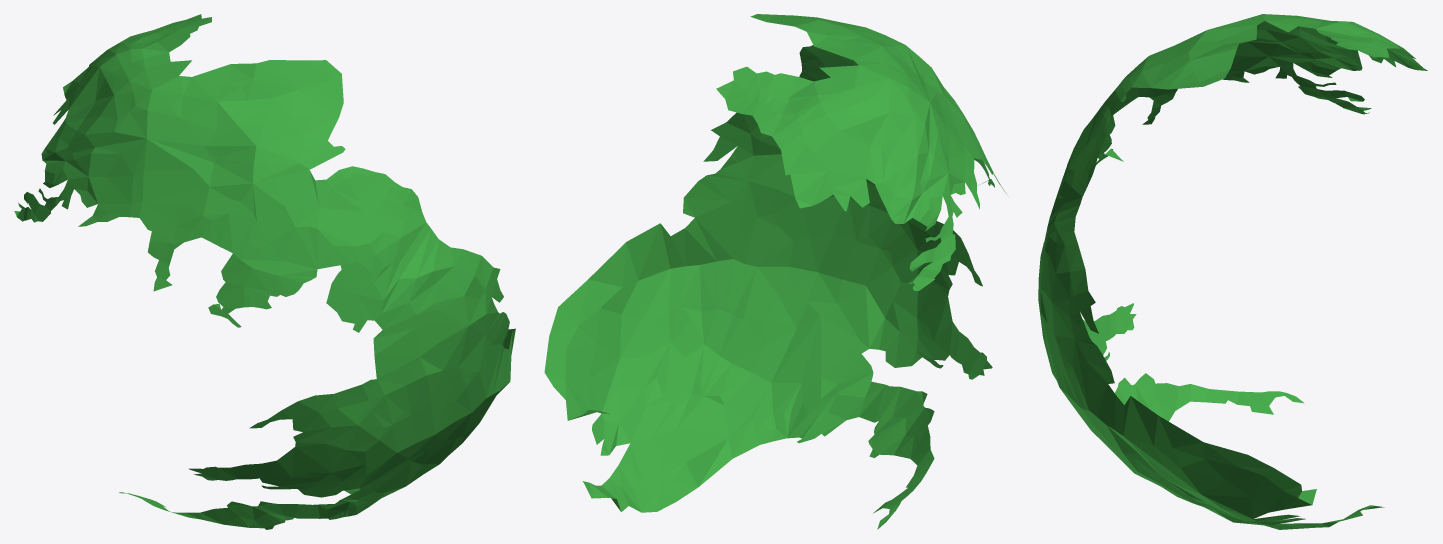
Rendered from LandTop.fbx.
The picture shows the model from 3 angles, left to right: view 1: azimuth 30°, elevation 25°; view 2: azimuth 150°, elevation 25°; view 3: azimuth 270°, elevation 25°; orthographic projection. The views are drawn at different scales.
Visible parts, largest first — view 1: LandTop; view 2: LandTop; view 3: LandTop.
Boxes of the visible parts, left/top/right/bottom form: LandTop: left=14, top=14, right=515, bottom=529; LandTop: left=544, top=14, right=1006, bottom=529; LandTop: left=1038, top=14, right=1427, bottom=529.
Bounding box in the file's own units: 17.67 × 18.9 × 15.19.
